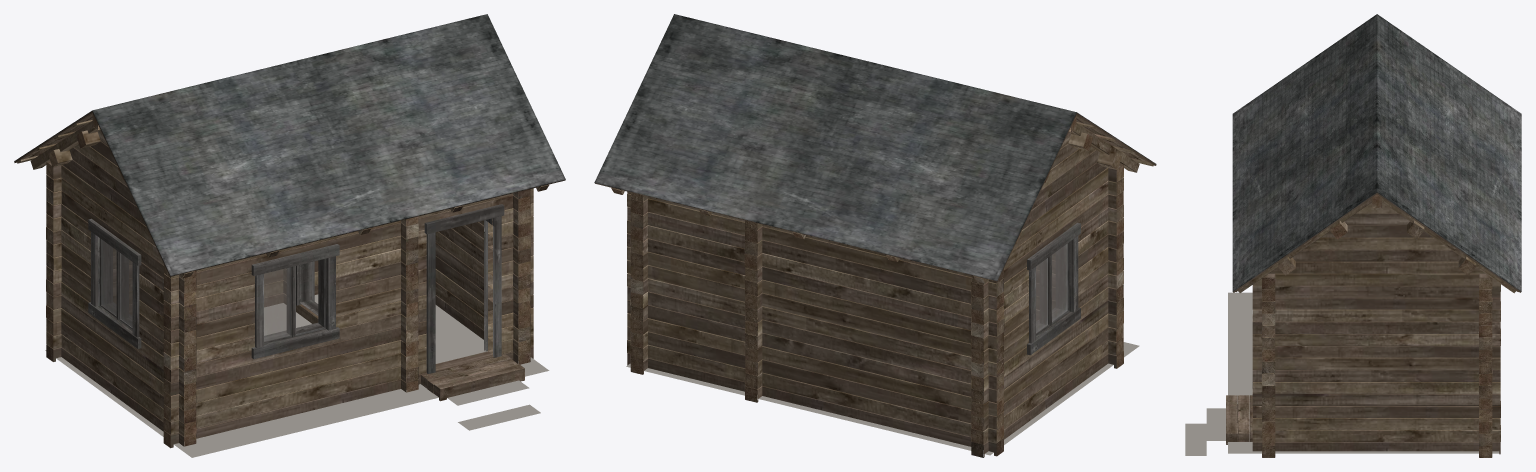
The model's file is log-cabin.zfix-v1.lod1.glb.
The picture shows the model from 3 angles, left to right: view 1: azimuth 30°, elevation 25°; view 2: azimuth 150°, elevation 25°; view 3: azimuth 270°, elevation 25°; orthographic projection. The views are drawn at different scales.
Visible parts, largest first — view 1: Base_Roof_0, Base_Wood1a_0, Base_Wood1b_0, Base_Wood2_0, Base_WoodEnds_0, Walkable floors and stairs, Base_Glass_0; view 2: Base_Roof_0, Base_Wood1a_0, Base_Wood1b_0, Base_WoodEnds_0, Base_Wood2_0, Walkable floors and stairs, Base_Glass_0; view 3: Base_Roof_0, Base_Wood1b_0, Base_Wood1a_0, Base_WoodEnds_0, Walkable floors and stairs.
Part boxes in pixels (x1,y1,x2,y2): Base_Roof_0: (14,14,565,275); Base_Wood1a_0: (17,120,549,436); Base_Wood1b_0: (14,111,565,448); Base_Wood2_0: (88,204,504,373); Base_WoodEnds_0: (46,114,548,447); Walkable floors and stairs: (45,294,549,457); Base_Glass_0: (101,239,290,341); Base_Roof_0: (594,14,1156,280); Base_Wood1a_0: (611,121,1153,443); Base_Wood1b_0: (595,113,1156,457); Base_WoodEnds_0: (611,116,1123,457); Base_Wood2_0: (1027,222,1080,355); Walkable floors and stairs: (626,342,1139,455); Base_Glass_0: (1036,243,1067,332); Base_Roof_0: (1232,14,1521,291); Base_Wood1b_0: (1226,192,1520,457); Base_Wood1a_0: (1236,197,1518,446); Base_WoodEnds_0: (1262,194,1492,457); Walkable floors and stairs: (1185,292,1499,455).
Size of the model in its own units: 6.3 by 4.73 by 5.03.
7 materials, 6 textured.
